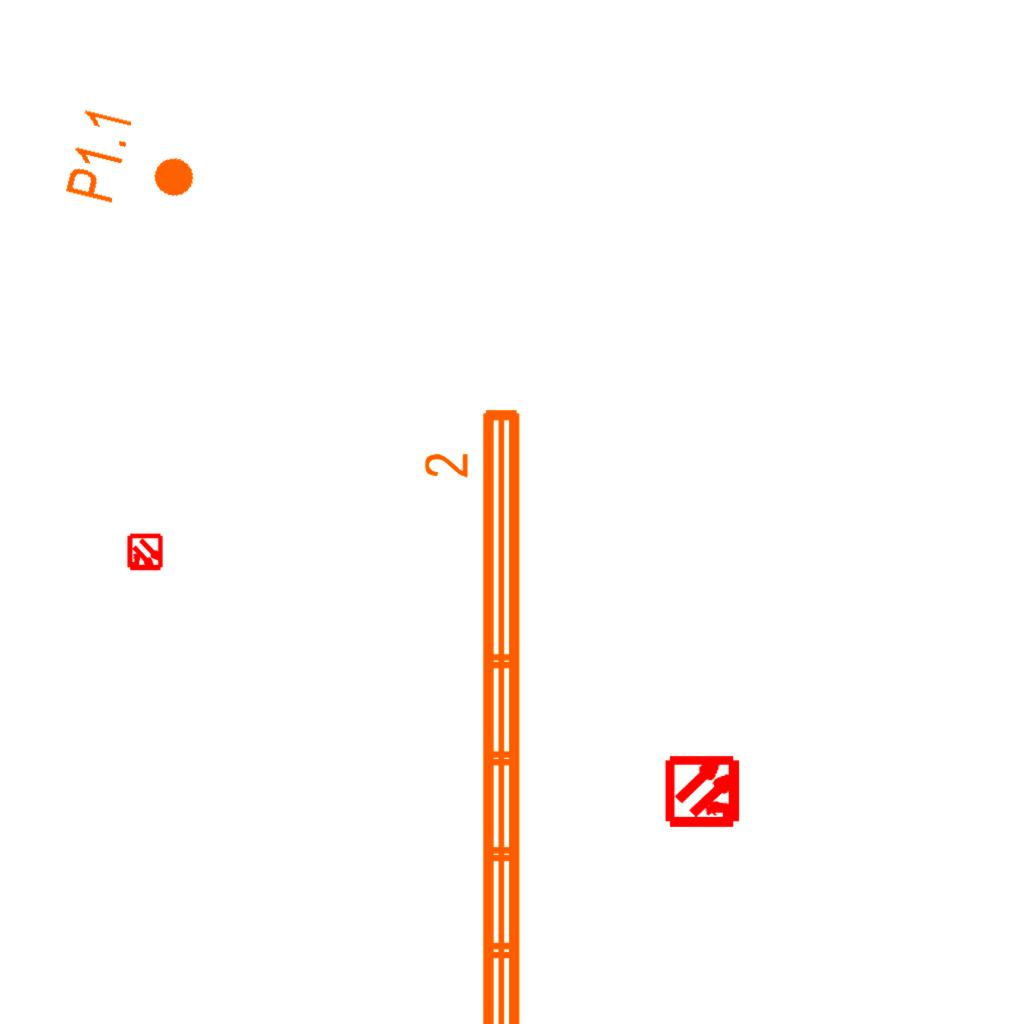Ambulanz_Pendelleuchte_LED: (420, 401, 532, 1024)
Downlight_LED_Einbauleuchten_Flur: (61, 103, 208, 225)
OT_Multisensormelder_(Kombination_RMO_WMD): (648, 735, 761, 848), (117, 525, 173, 581)
